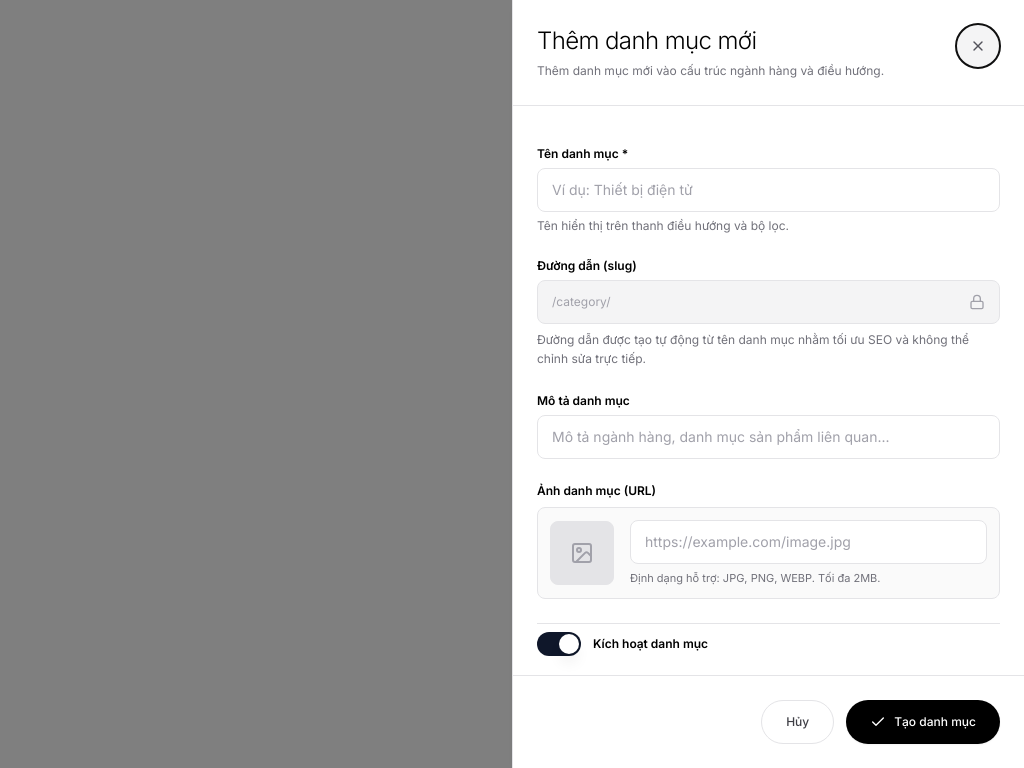
Test case: CategoryFormDrawer Component (Stitch Screen 3) › handles 409 conflict error when category name already exists
Type "Đồ chơi" into the field labelled "Tên danh mục *" at point(768, 190), box [537,168,1000,212]
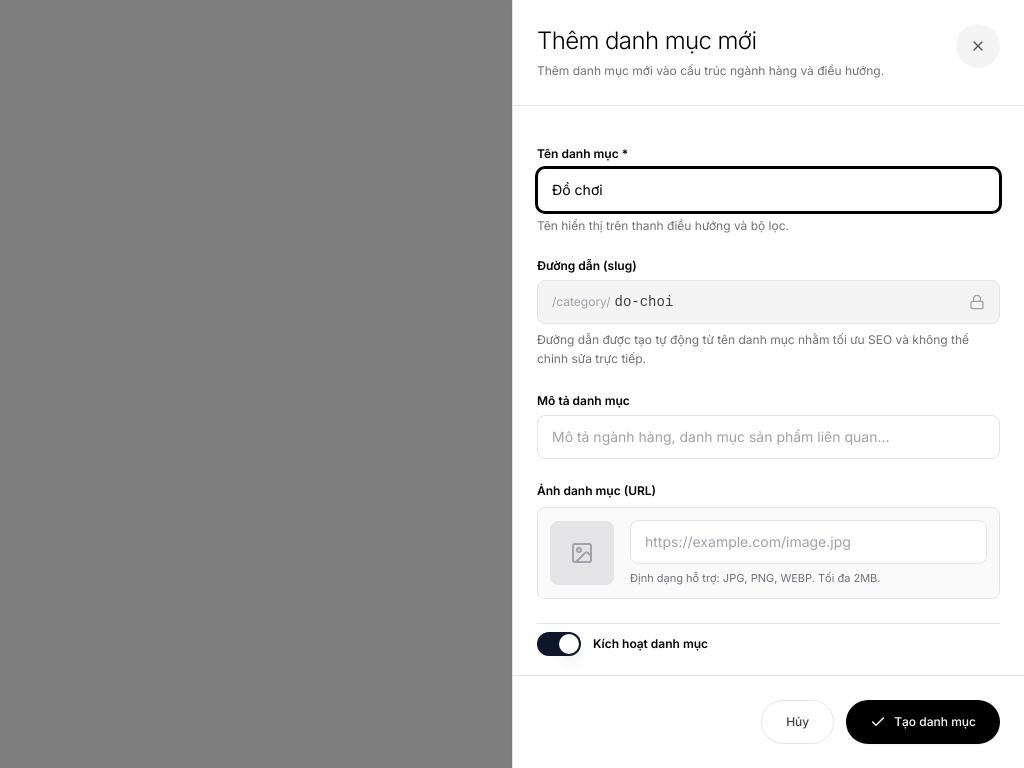
Click the button "Tạo danh mục" at point(923, 722), box [846,700,1000,744]
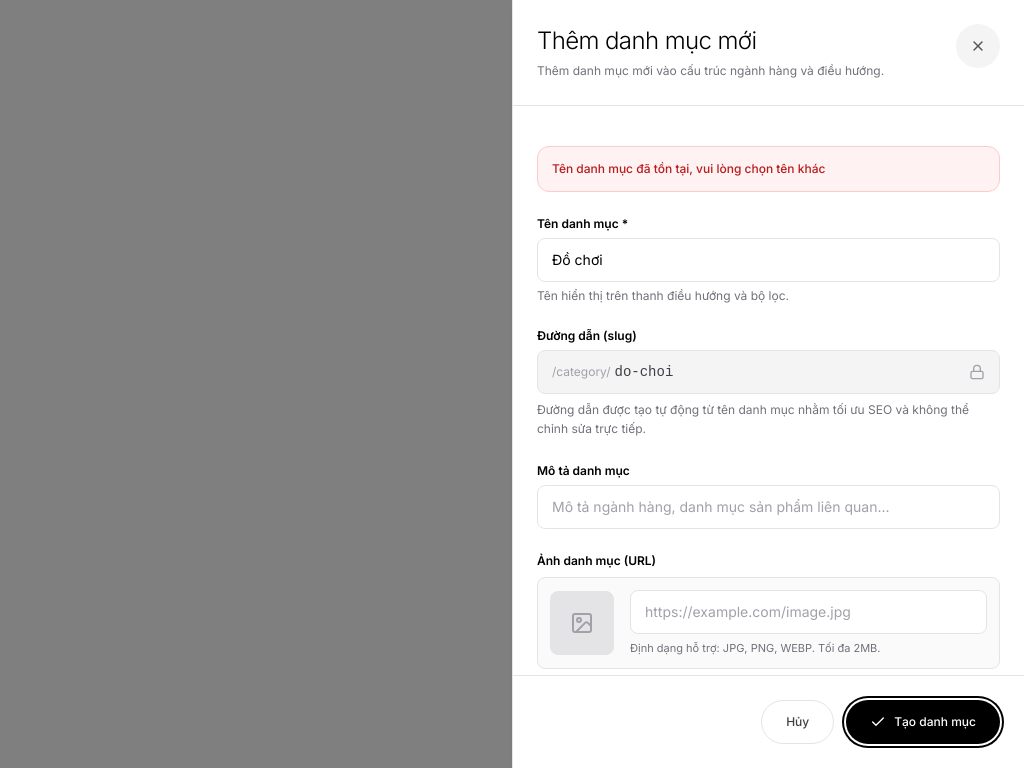
Check: the text "Tên danh mục đã tồn tại, vui lòng chọn tên khác" is shown, box [537,146,1000,192]
